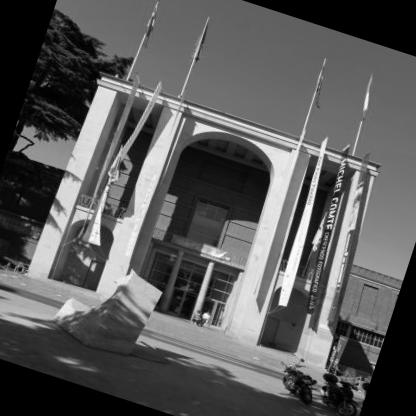moto: (312, 364, 372, 416), (274, 362, 332, 410)
